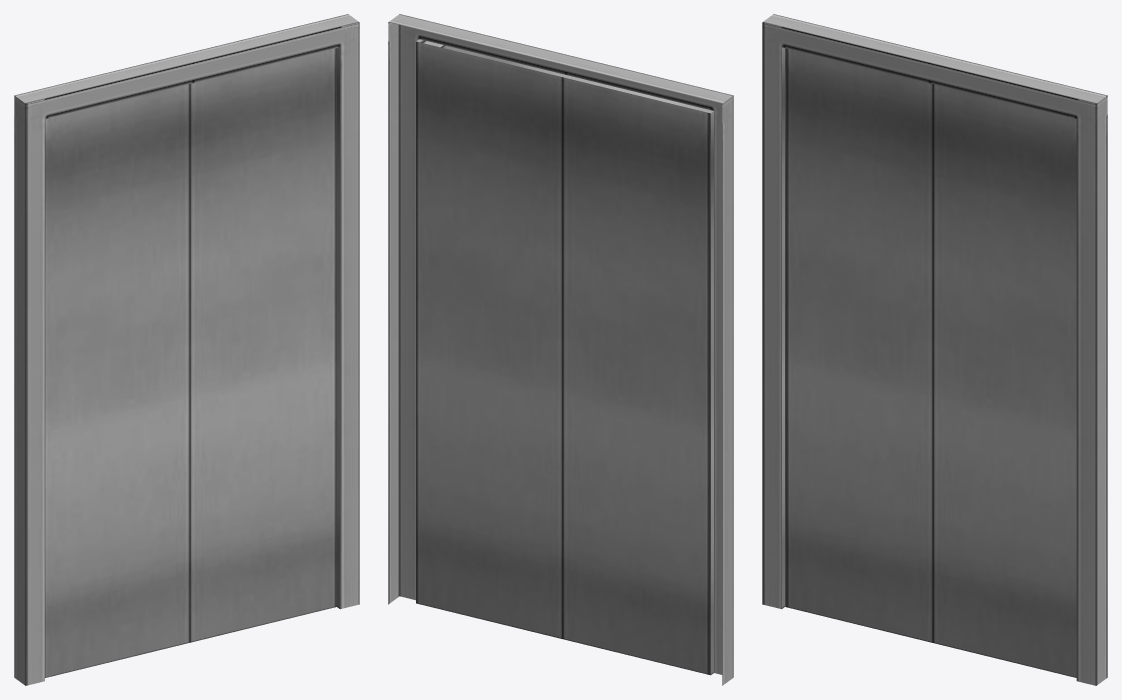
Rendered from elevator door.glb.
3 views of the same model, side by side, from view 1: azimuth 30°, elevation 25°; view 2: azimuth 150°, elevation 25°; view 3: azimuth 330°, elevation 25° (orthographic).
Parts seen in each view (by area): view 1: elevator; view 2: elevator; view 3: elevator.
Boxes of the visible parts, x1,y1,x2,y2 form: elevator: (14, 14, 359, 685); elevator: (388, 14, 733, 685); elevator: (762, 14, 1107, 685).
Size of the model in its own units: 1.2 by 2 by 0.07.
Materials: 1 (1 with a texture image).
